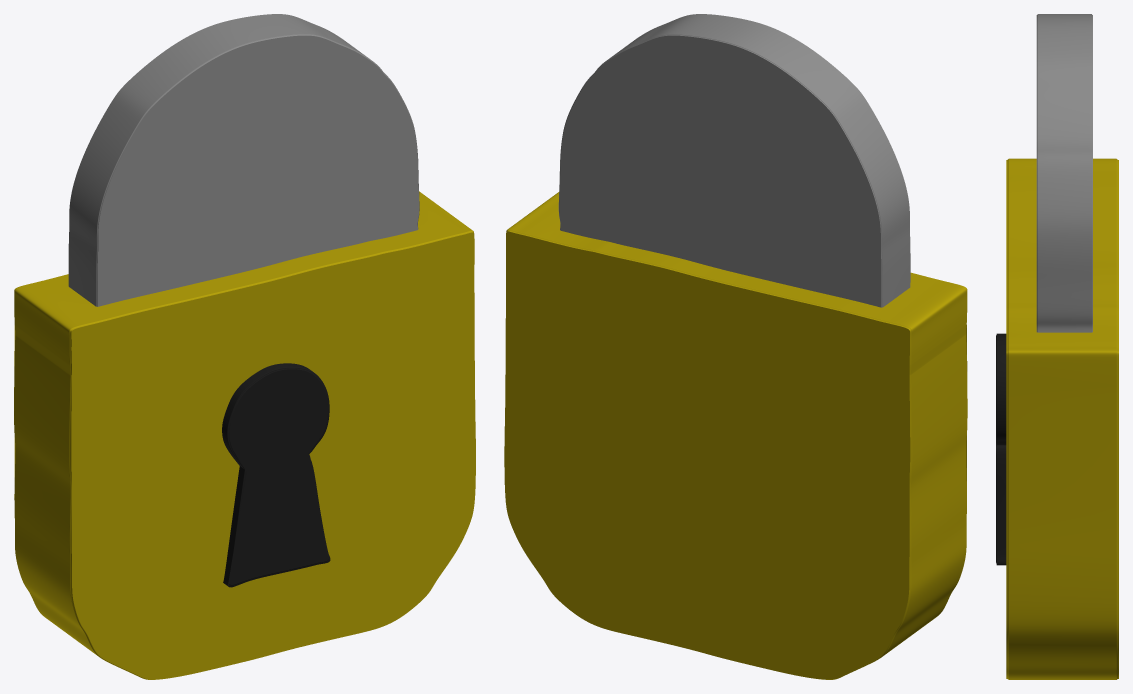
Rendered from Padlockwith  hole.fbx.
The picture shows the model from 3 angles, left to right: view 1: azimuth 30°, elevation 25°; view 2: azimuth 150°, elevation 25°; view 3: azimuth 270°, elevation 25°; orthographic projection.
Parts seen in each view (by area): view 1: bevelPolygonShape1; view 2: bevelPolygonShape1; view 3: bevelPolygonShape1.
Part boxes in pixels (x1,y1,x2,y2): bevelPolygonShape1: (14, 14, 475, 679); bevelPolygonShape1: (504, 14, 967, 679); bevelPolygonShape1: (996, 14, 1118, 679).
Bounding box in the file's own units: 8.54 × 12.12 × 2.27.
